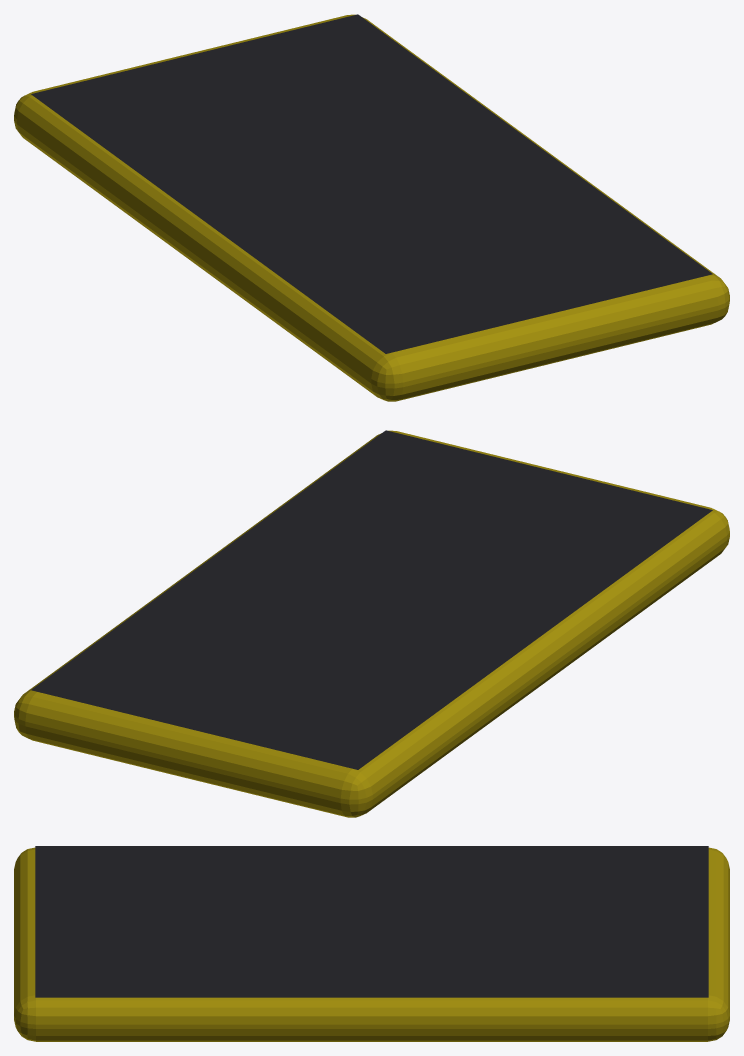
File: Phone_833.glb
3 renders of one model, top to bottom at view 1: azimuth 30°, elevation 25°; view 2: azimuth 150°, elevation 25°; view 3: azimuth 270°, elevation 25°, orthographic. The views are drawn at different scales.
Parts seen in each view (by area): view 1: Phone_Screen, Phone_Body; view 2: Phone_Screen, Phone_Body; view 3: Phone_Screen, Phone_Body.
Part boxes in pixels (x1,y1,x2,y2): Phone_Screen: (31,14,712,353); Phone_Body: (14,14,729,401); Phone_Screen: (31,430,712,769); Phone_Body: (14,430,729,817); Phone_Screen: (35,846,708,997); Phone_Body: (14,847,729,1041).
Size of the model in its own units: 0.0775 by 0.0099 by 0.1425.
